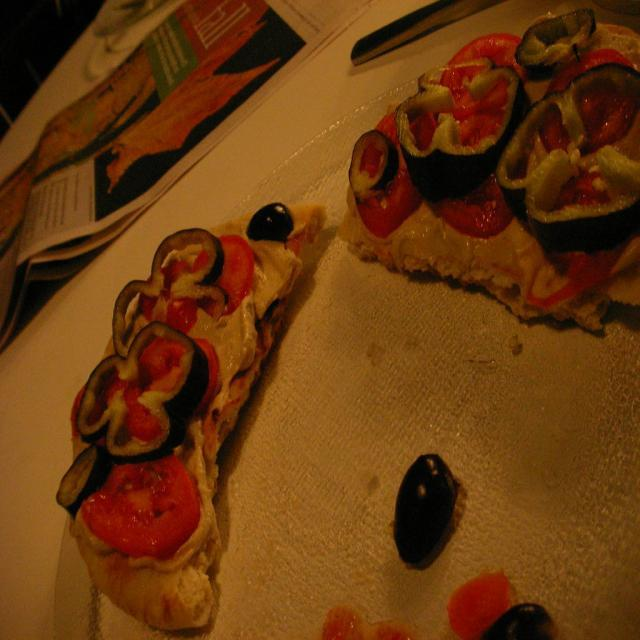Pizza: (42, 197, 316, 615), (328, 31, 630, 321)
